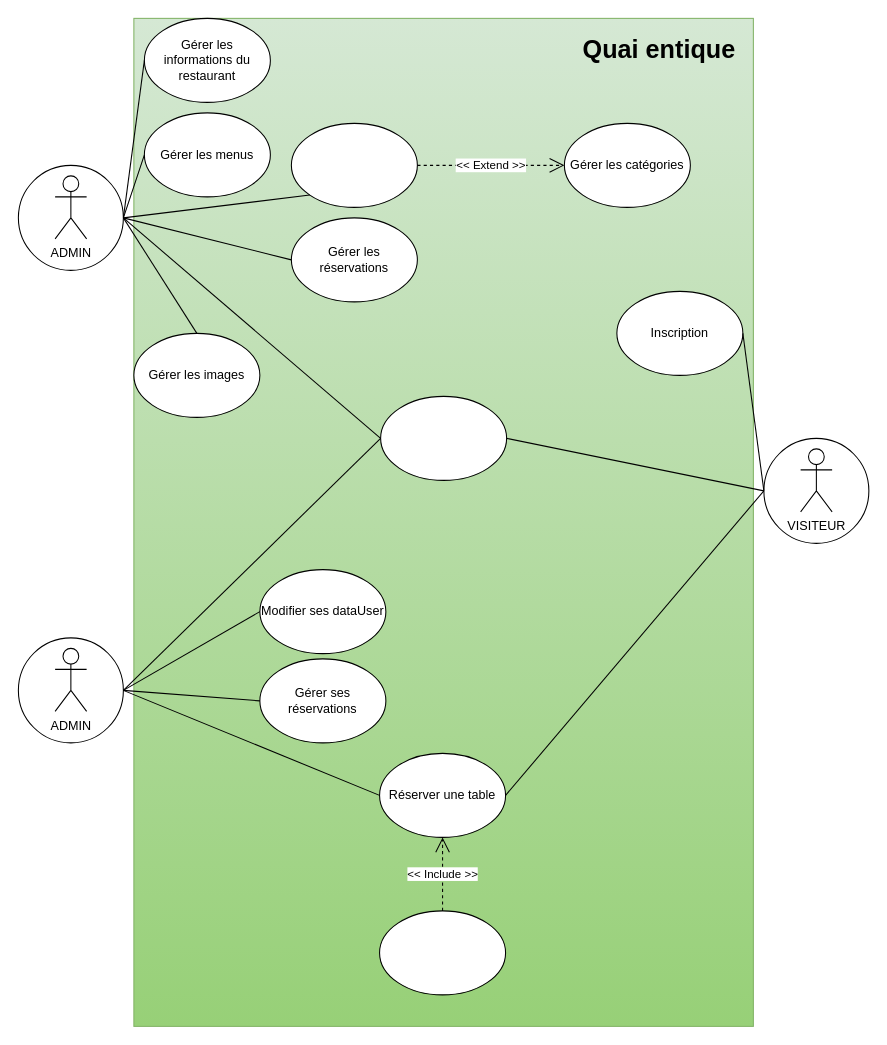
This 887x1045 diagram has some shape labels left out. Each missing label, with the centre of its shape:
"Afficher les cartes" belongs at point (443, 437).
"Connexion" belongs at point (442, 952).
"Gérer les plats" belongs at point (353, 164).
